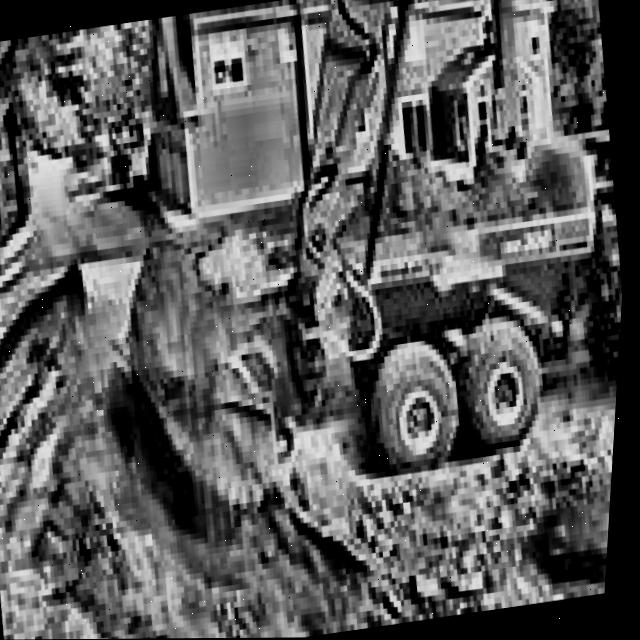dump_truck: (328, 102, 635, 463)
excavator: (0, 0, 513, 556)
